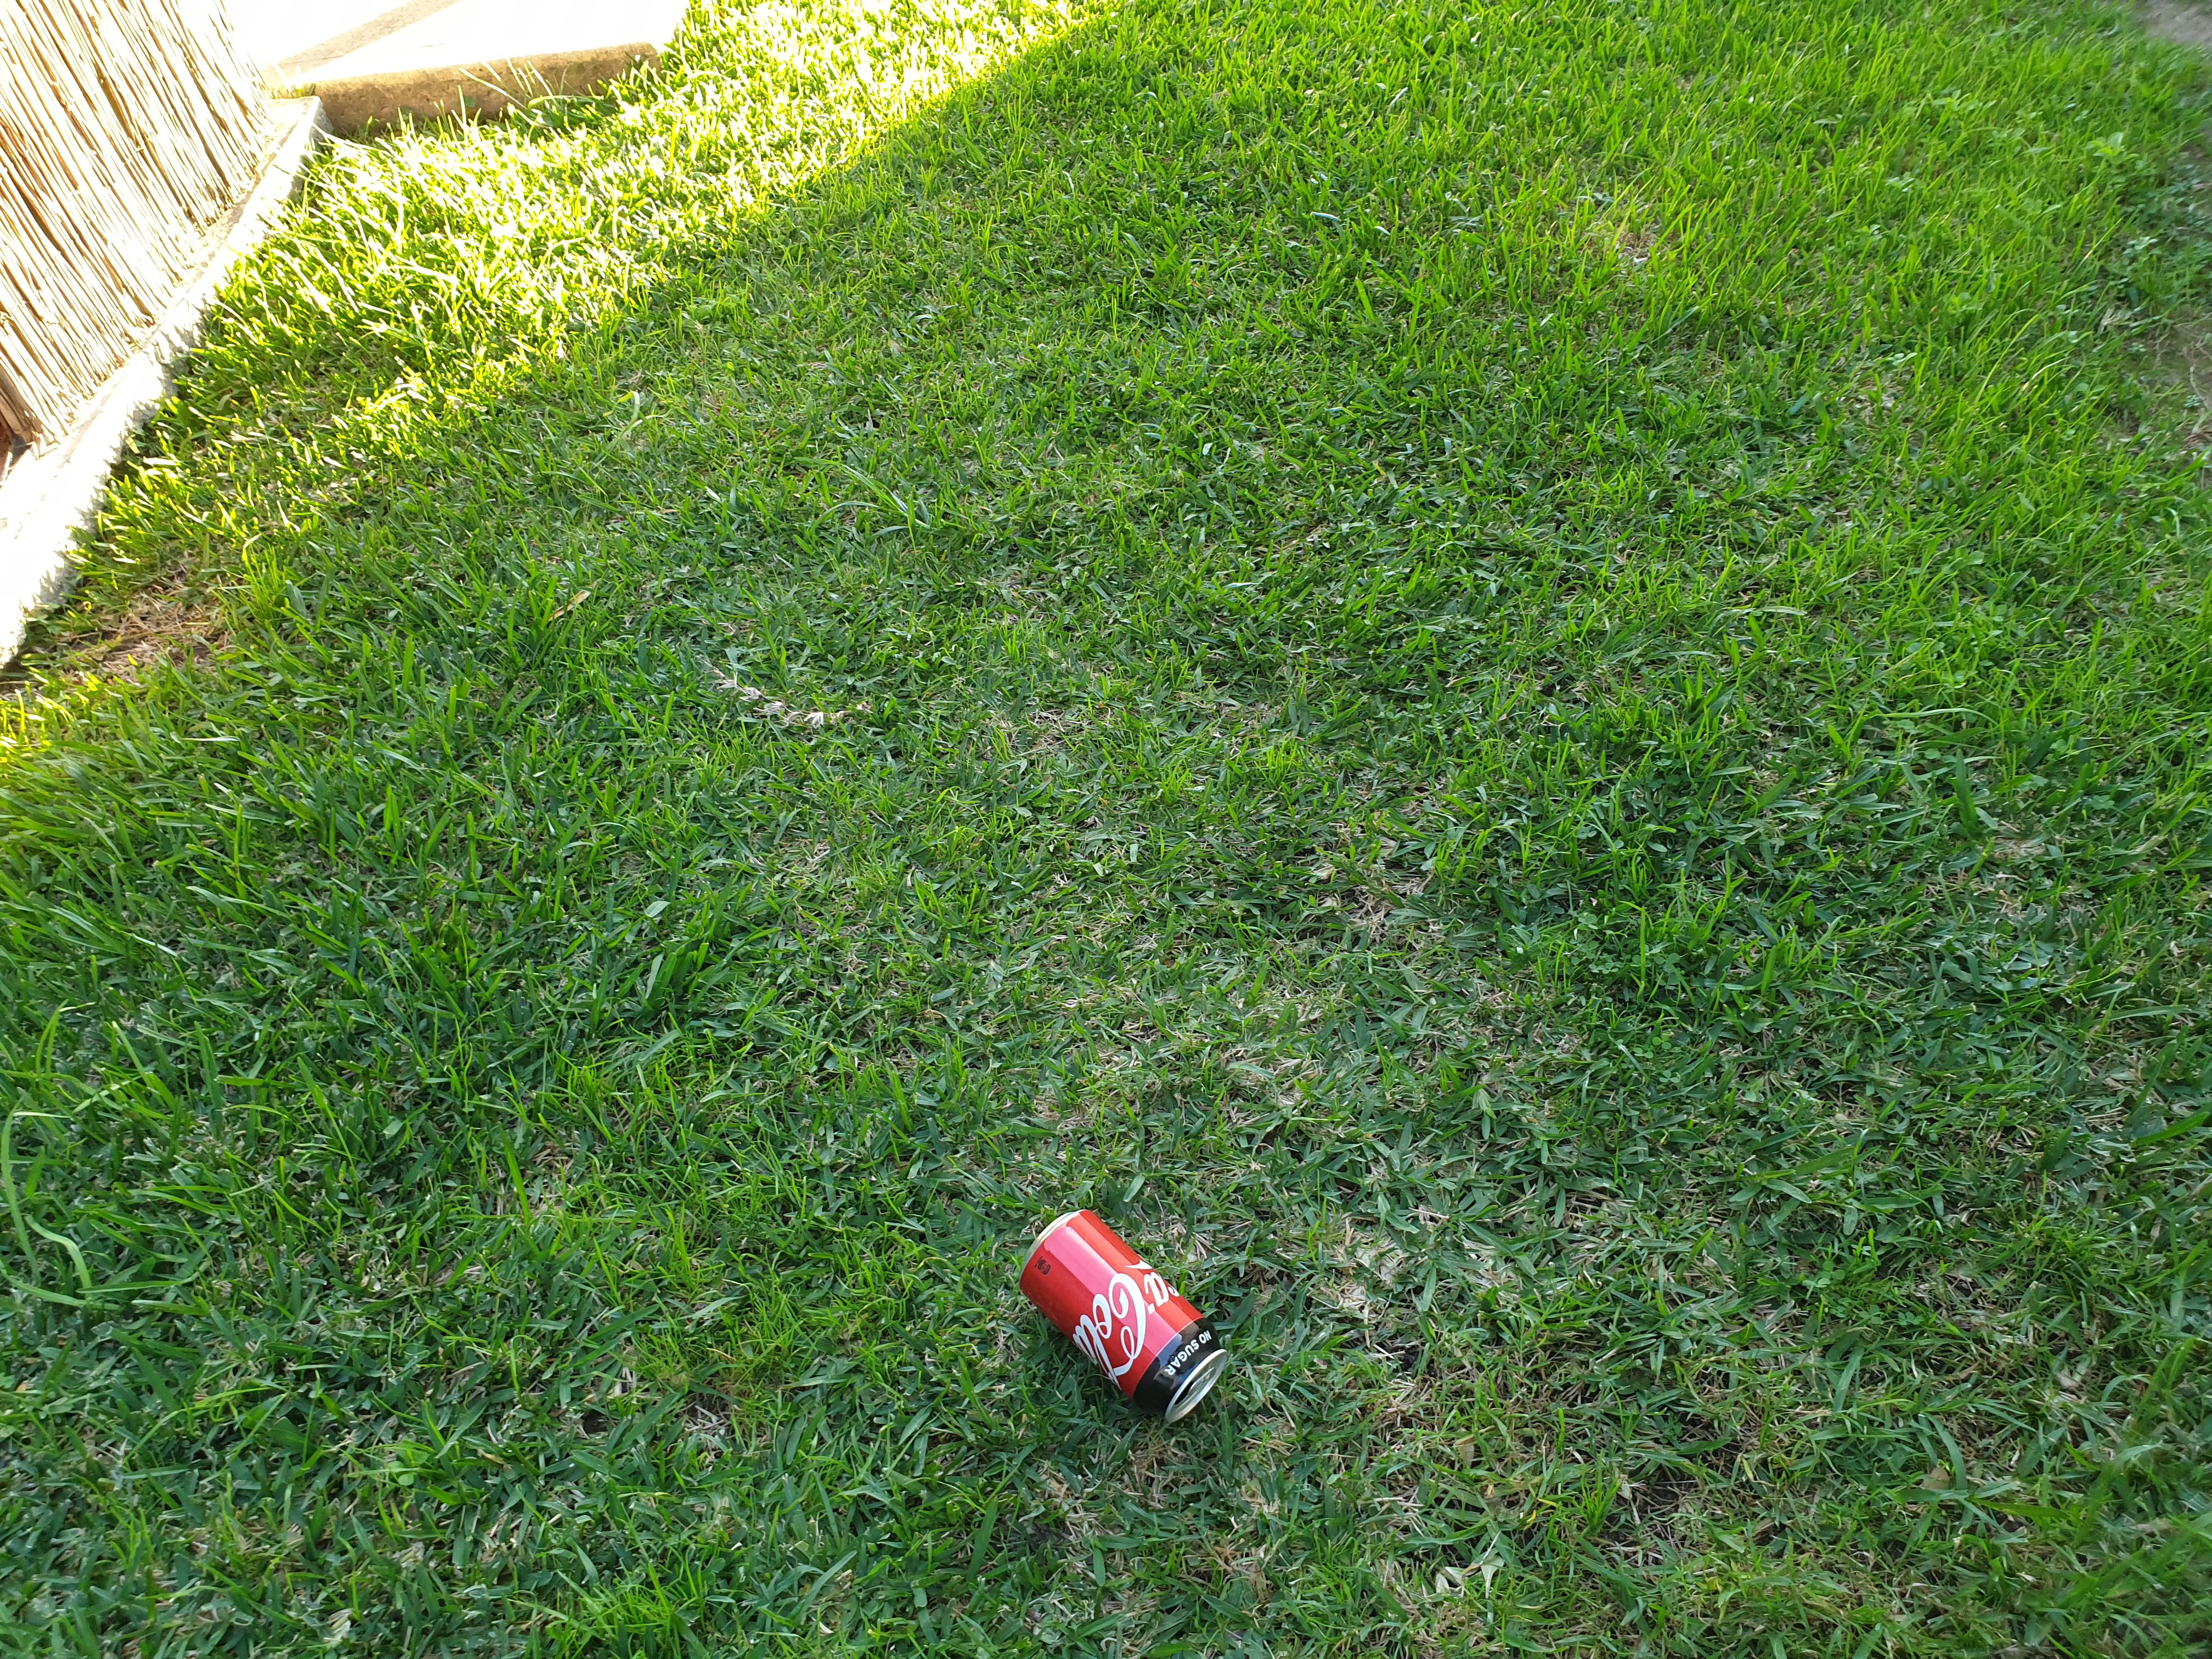Plastic Bottle: (1021, 1209, 1226, 1424)
